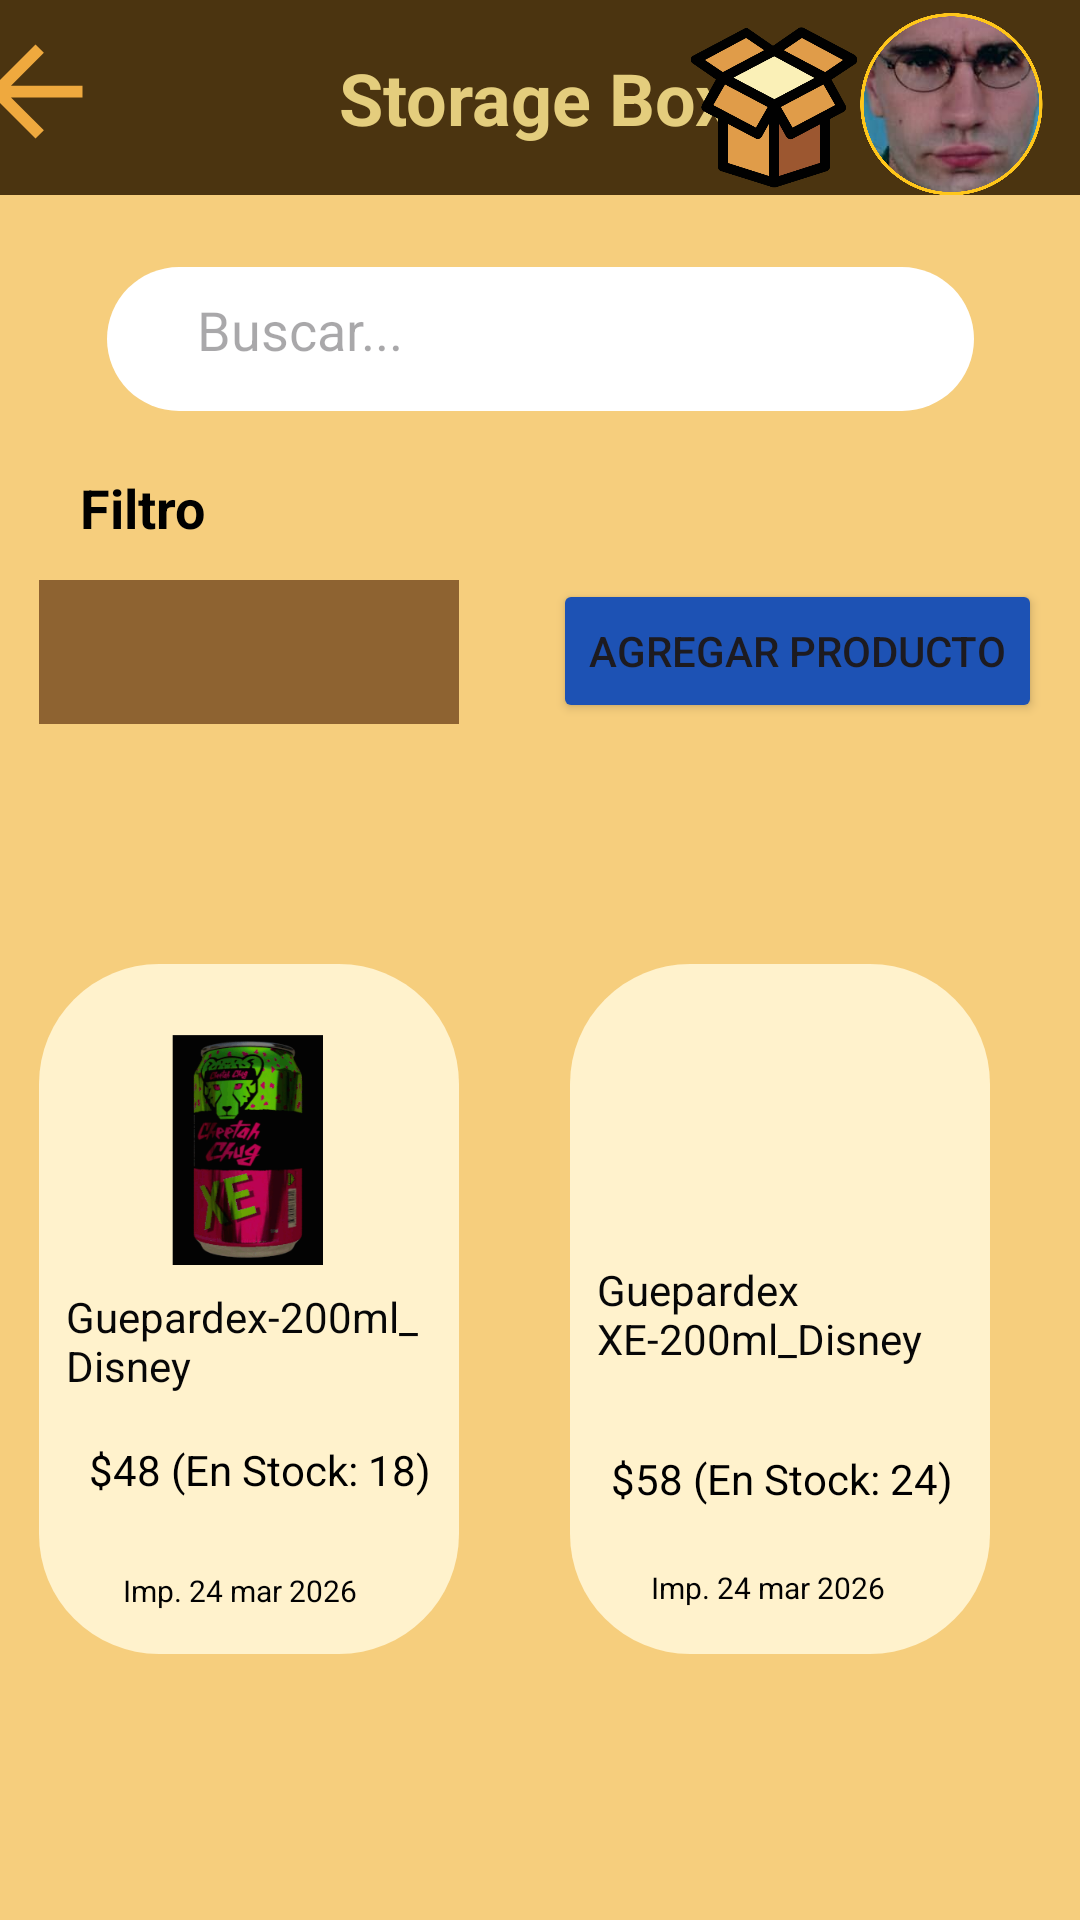

Point at icon controls on the screen. Image size 1080 x 1920, points as (x,y).
foto perfil: (951,119)
